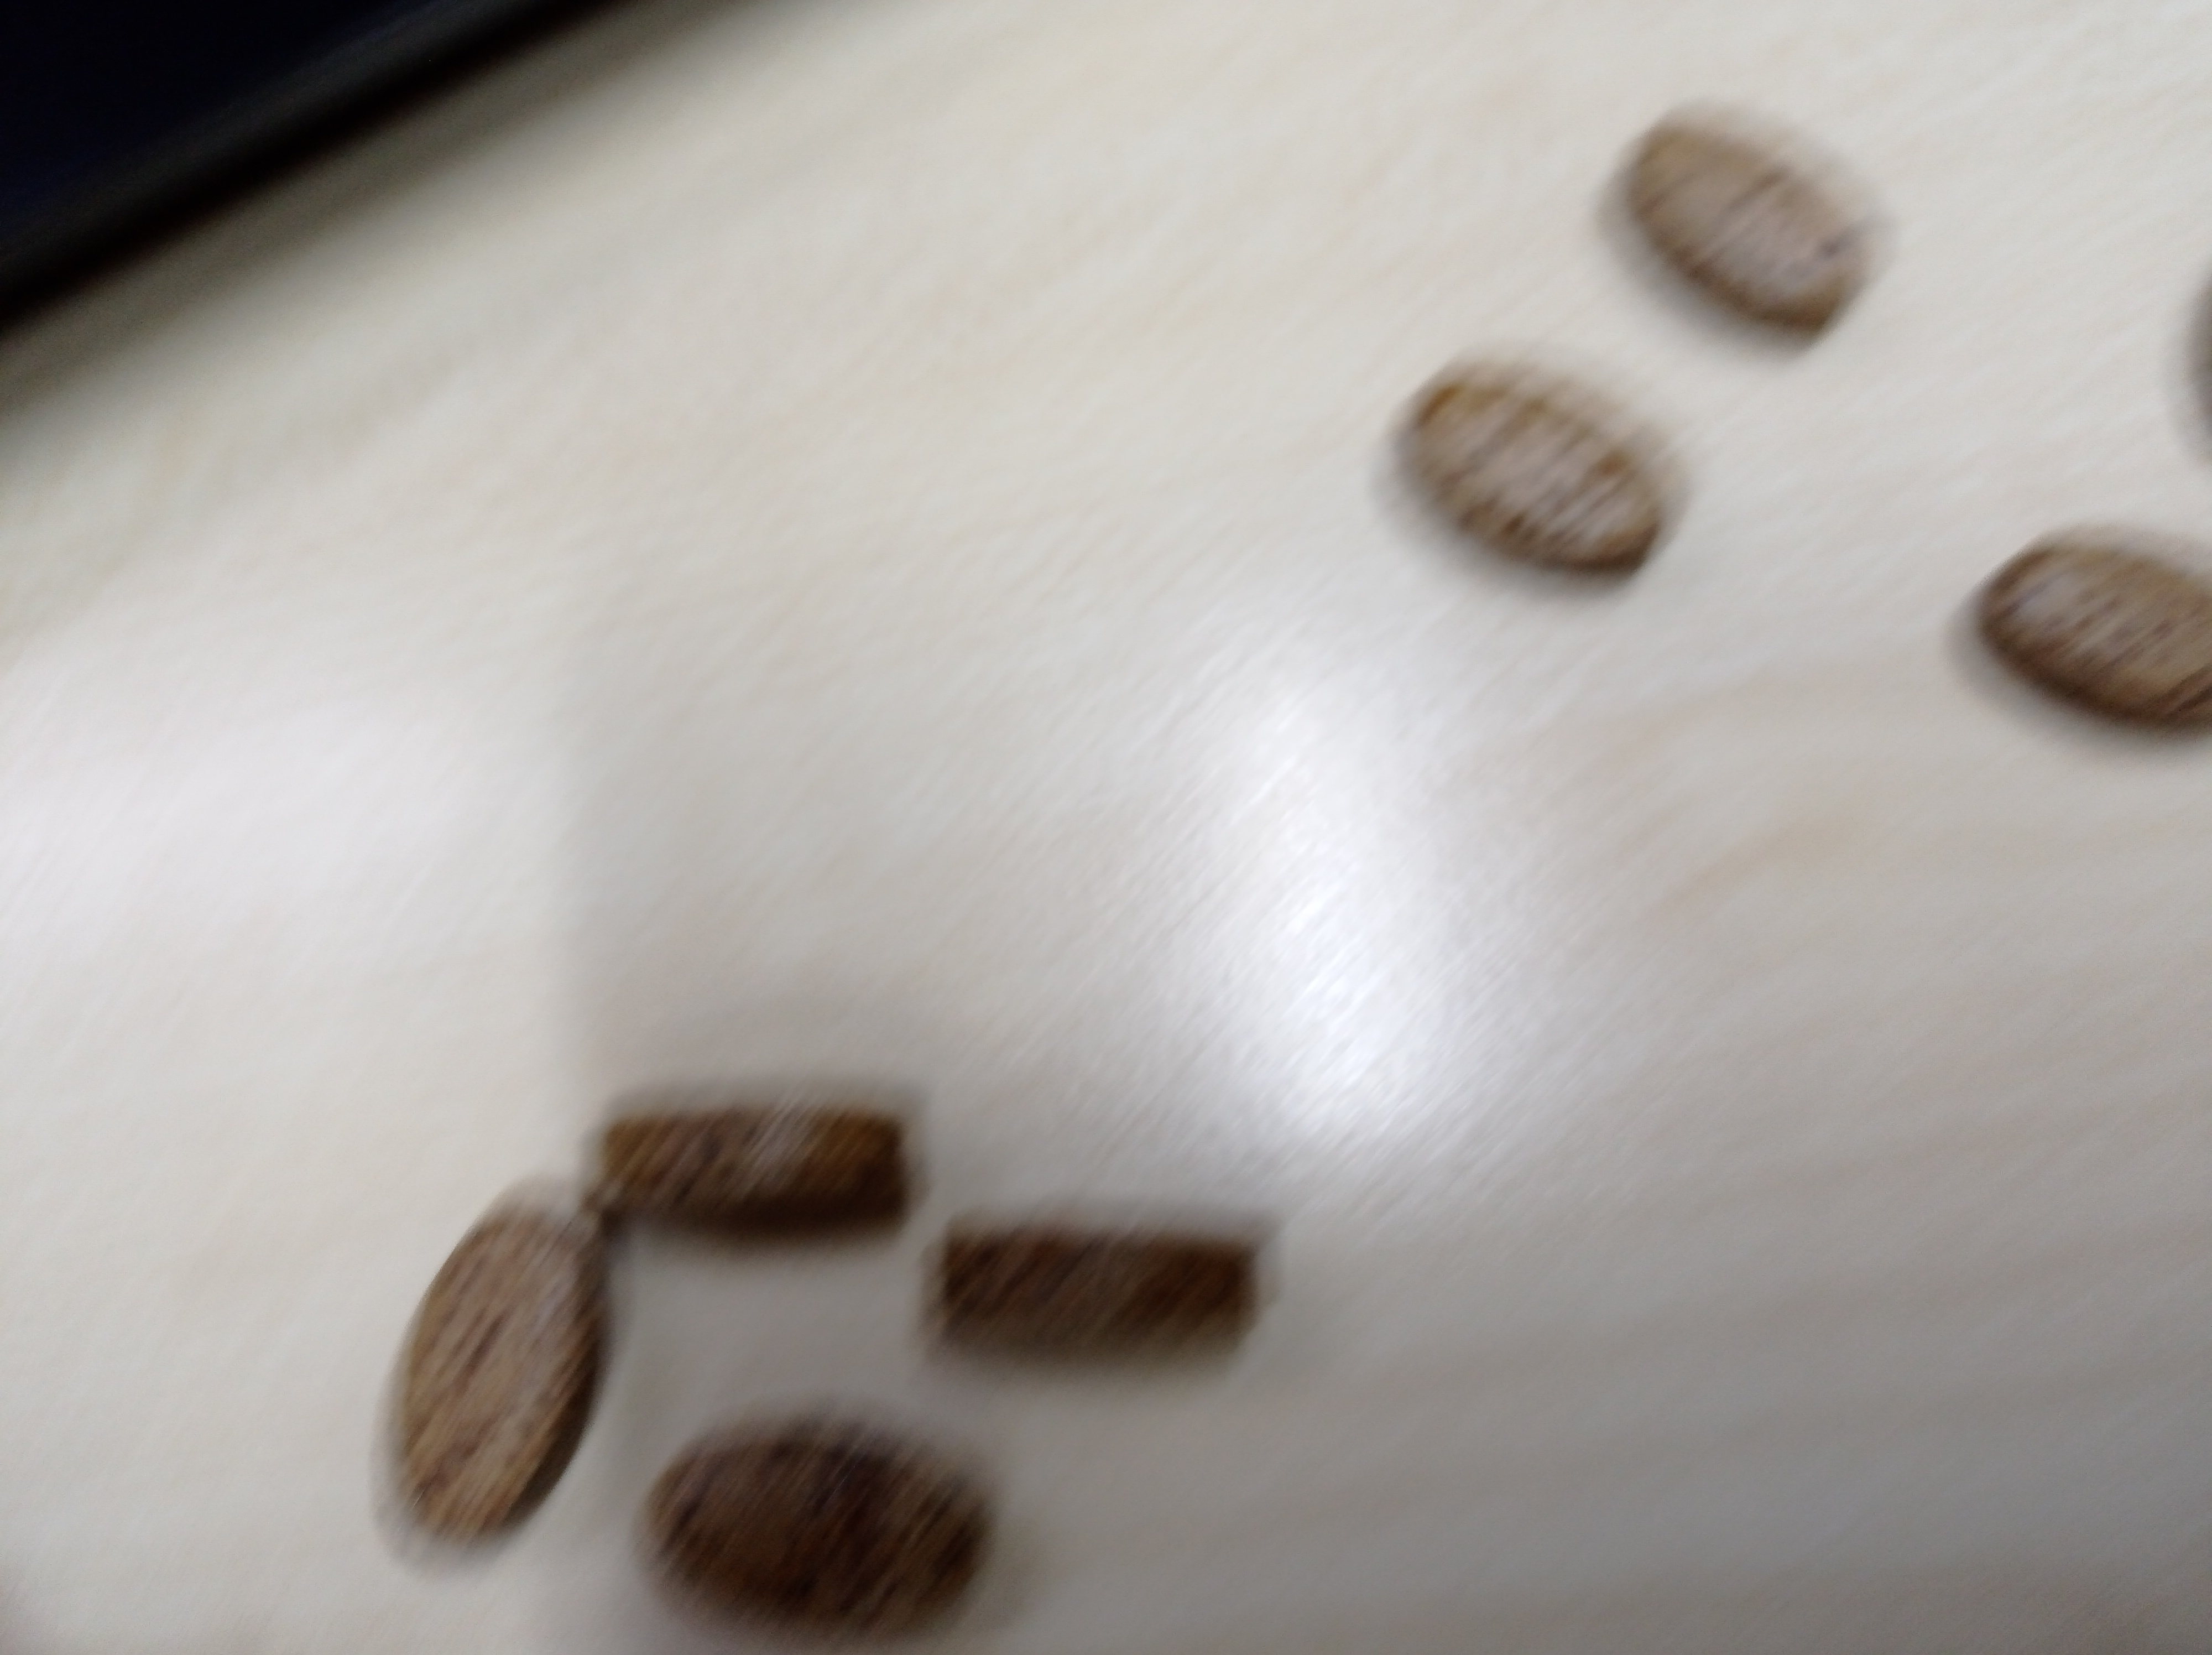brown_medicine: (641, 1413, 1010, 1643), (394, 1220, 606, 1542), (1390, 355, 1672, 589), (1618, 106, 1885, 336), (601, 1099, 917, 1255), (1974, 530, 2212, 728)
